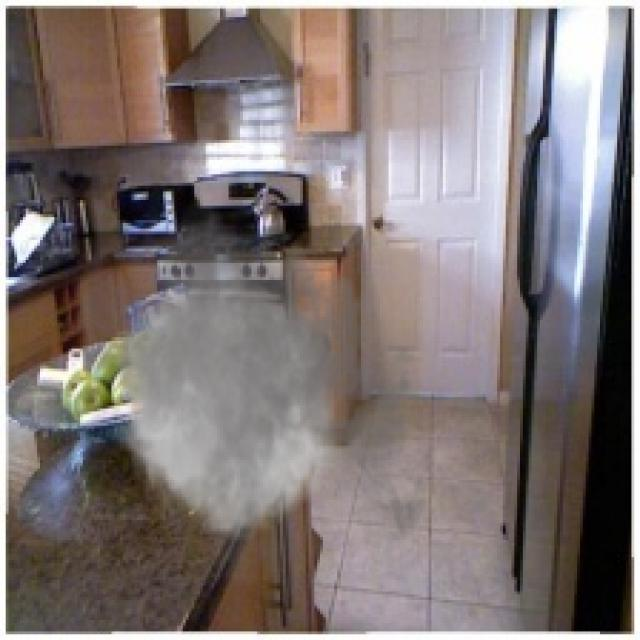Smoke: (60, 188, 440, 612)
